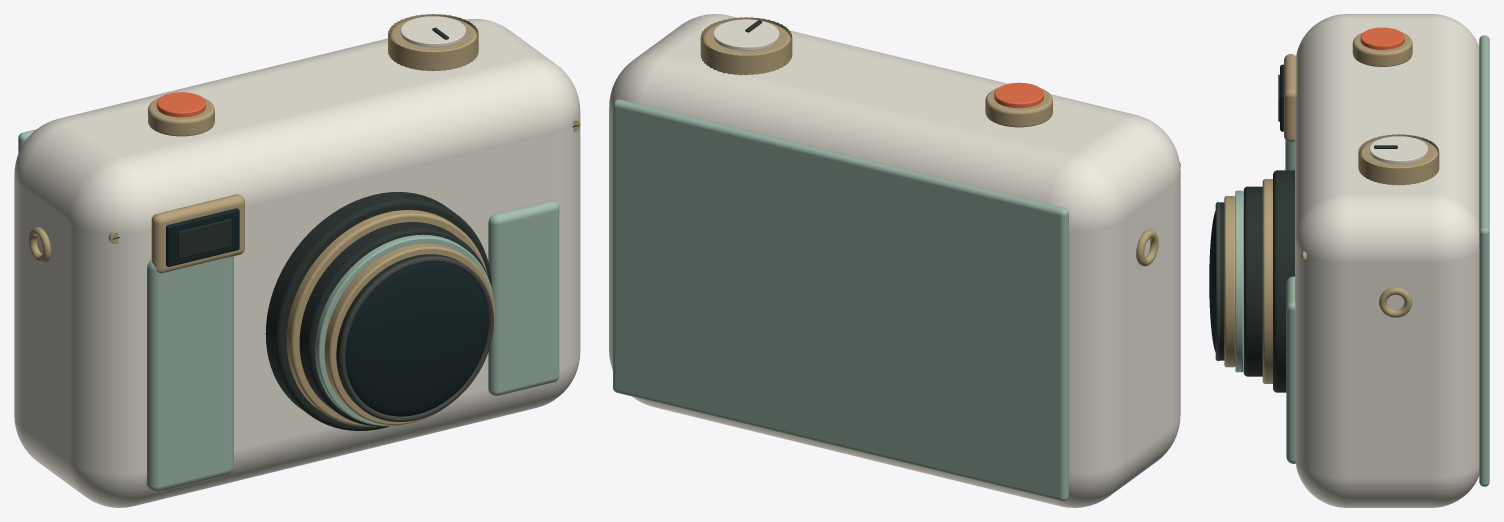
The model's file is rangefinder-camera.glb.
3 views of the same model, side by side, from view 1: azimuth 30°, elevation 25°; view 2: azimuth 150°, elevation 25°; view 3: azimuth 270°, elevation 25° (orthographic). The views are drawn at different scales.
Visible parts, largest first — view 1: soft-cast-camera-shell, rounded-grip-inlay, convex-optical-surface, thumb-inlay, ink-04, ink-06, metal-05, metal-08, rubber-11, secondary-07, viewfinder-surround, fine-knurled-edge (+7 smaller); view 2: inset-rear-panel, soft-cast-camera-shell, fine-knurled-edge, body-17, metal-19, accent-20, metal-16; view 3: soft-cast-camera-shell, inset-rear-panel, ink-04, ink-06, metal-05, metal-08, thumb-inlay, fine-knurled-edge, secondary-07, body-17, metal-19, viewfinder-surround (+6 smaller).
Boxes of the visible parts, x1,y1,x2,y2 form: soft-cast-camera-shell: [14, 19, 580, 507]; rounded-grip-inlay: [146, 256, 233, 492]; convex-optical-surface: [345, 262, 488, 416]; thumb-inlay: [488, 200, 559, 396]; ink-04: [265, 192, 491, 430]; ink-06: [299, 222, 488, 426]; metal-05: [286, 210, 487, 426]; metal-08: [324, 243, 495, 424]; rubber-11: [339, 256, 493, 421]; secondary-07: [315, 234, 493, 426]; viewfinder-surround: [151, 194, 244, 273]; fine-knurled-edge: [388, 14, 478, 71]; inset-rear-panel: [613, 99, 1068, 501]; soft-cast-camera-shell: [609, 14, 1180, 507]; fine-knurled-edge: [700, 17, 792, 75]; body-17: [713, 19, 779, 50]; metal-19: [985, 88, 1052, 127]; accent-20: [994, 82, 1043, 108]; metal-16: [702, 21, 790, 55]; soft-cast-camera-shell: [1295, 14, 1479, 507]; inset-rear-panel: [1479, 35, 1489, 486]; ink-04: [1273, 170, 1294, 392]; ink-06: [1243, 186, 1262, 376]; metal-05: [1262, 179, 1272, 383]; metal-08: [1224, 196, 1235, 367]; thumb-inlay: [1286, 276, 1295, 463]; fine-knurled-edge: [1358, 134, 1439, 185]; secondary-07: [1235, 190, 1243, 372]; body-17: [1369, 136, 1427, 163]; metal-19: [1352, 32, 1412, 66]; viewfinder-surround: [1284, 54, 1296, 142].
Size of the model in its own units: 2 by 1.38 by 1.06.
